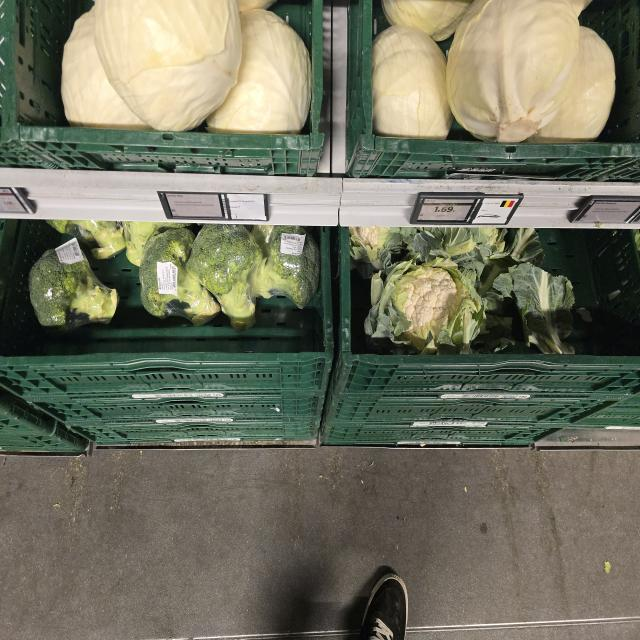Broccoli: (186, 224, 263, 332), (29, 238, 118, 330), (139, 227, 221, 326), (251, 225, 320, 309)
Cauliflower: (372, 259, 484, 354)
